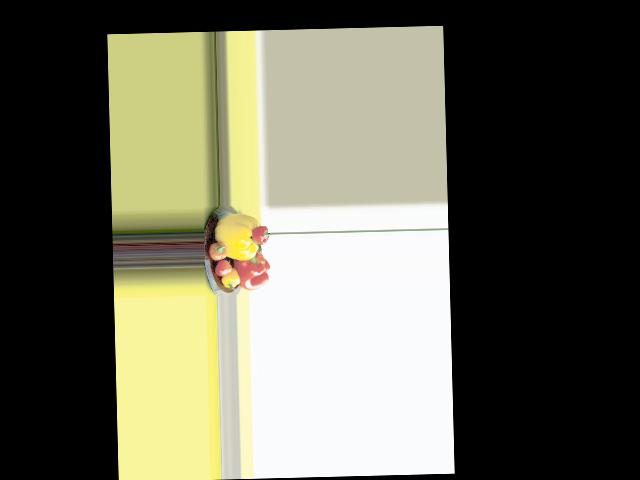bell_pepper: (222, 270, 240, 290)
